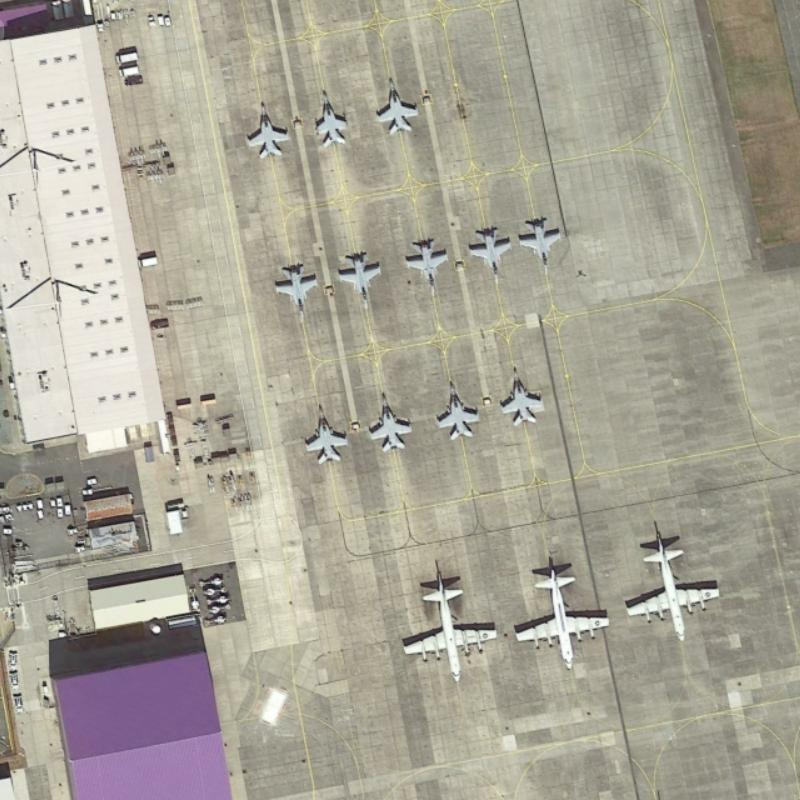A16: (332, 246, 385, 316), (462, 223, 513, 289), (241, 96, 292, 161), (301, 399, 351, 465), (365, 387, 415, 453), (270, 258, 319, 325), (399, 235, 450, 299), (495, 363, 546, 427), (515, 214, 565, 279), (432, 377, 482, 441), (374, 74, 421, 136), (308, 87, 350, 148)
A9: (397, 568, 501, 683), (621, 530, 720, 645), (510, 563, 613, 668)
